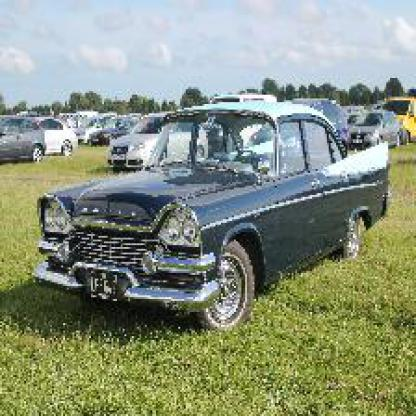not_emergency: (19, 102, 403, 318)
